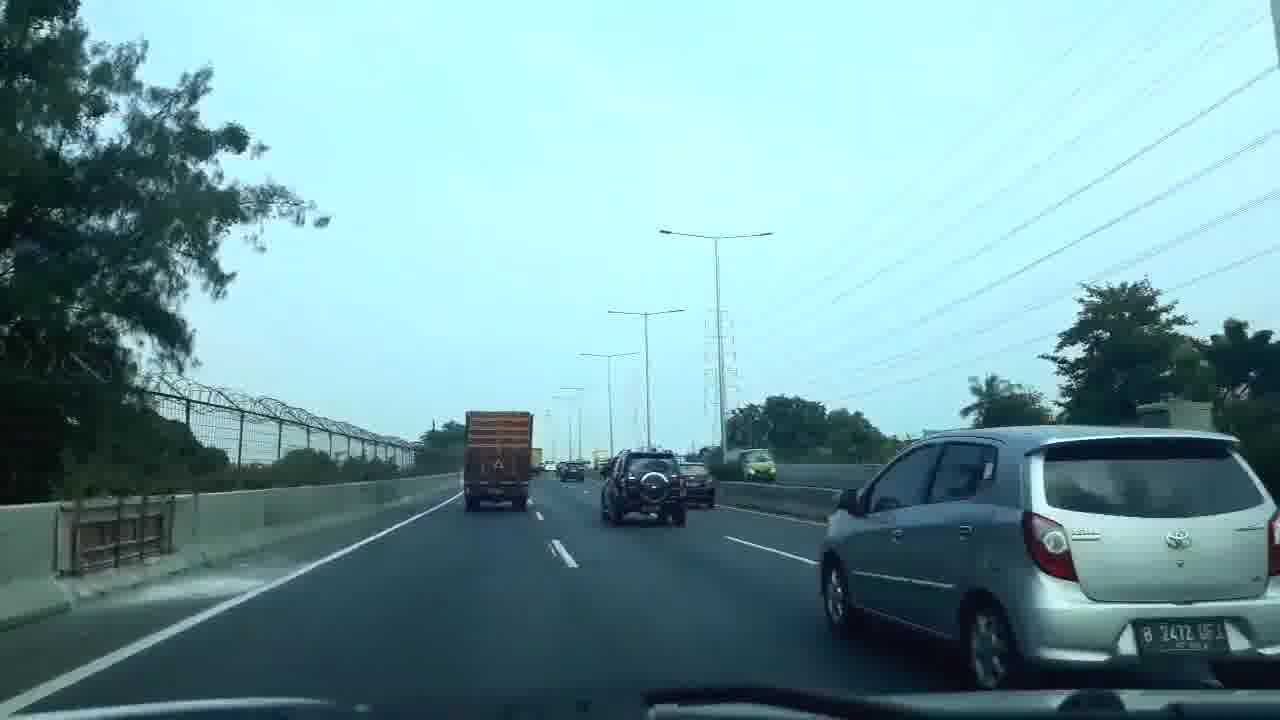plate_positive: (1134, 619, 1230, 654), (640, 504, 663, 512), (487, 487, 505, 495)
